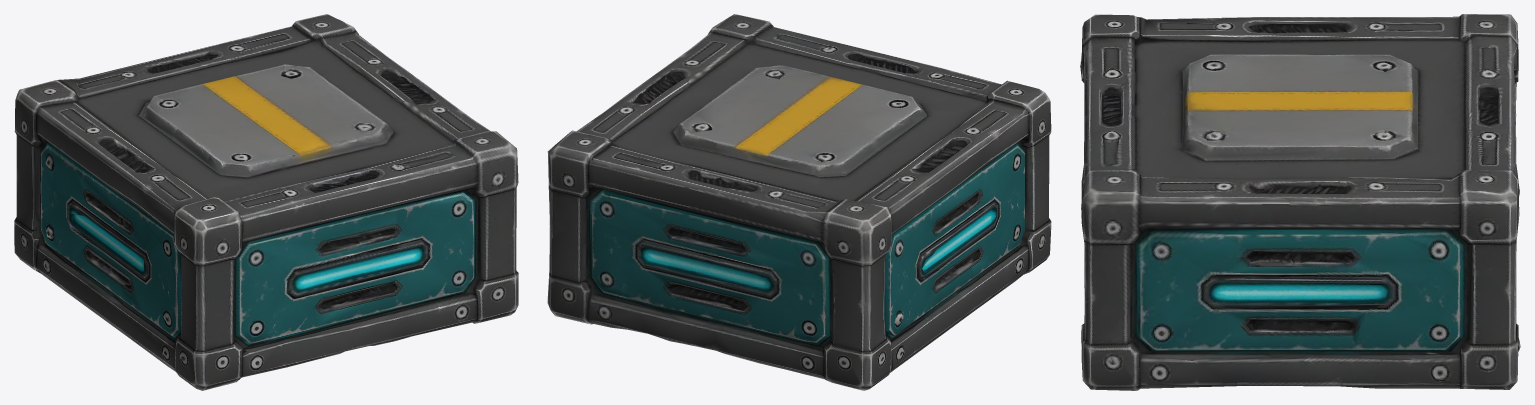
File: crate.glb
The picture shows the model from 3 angles, left to right: view 1: azimuth 30°, elevation 25°; view 2: azimuth 150°, elevation 25°; view 3: azimuth 270°, elevation 25°; orthographic projection. The views are drawn at different scales.
Visible parts, largest first — view 1: tripo_node_7663debf-a83b-49ba-91f7-485378d3d935; view 2: tripo_node_7663debf-a83b-49ba-91f7-485378d3d935; view 3: tripo_node_7663debf-a83b-49ba-91f7-485378d3d935.
Boxes of the visible parts, x1,y1,x2,y2 form: tripo_node_7663debf-a83b-49ba-91f7-485378d3d935: (14,14,518,390); tripo_node_7663debf-a83b-49ba-91f7-485378d3d935: (547,14,1051,390); tripo_node_7663debf-a83b-49ba-91f7-485378d3d935: (1080,14,1520,390).
Size of the model in its own units: 1 by 0.5145 by 0.9957.
1 material, 1 textured.
